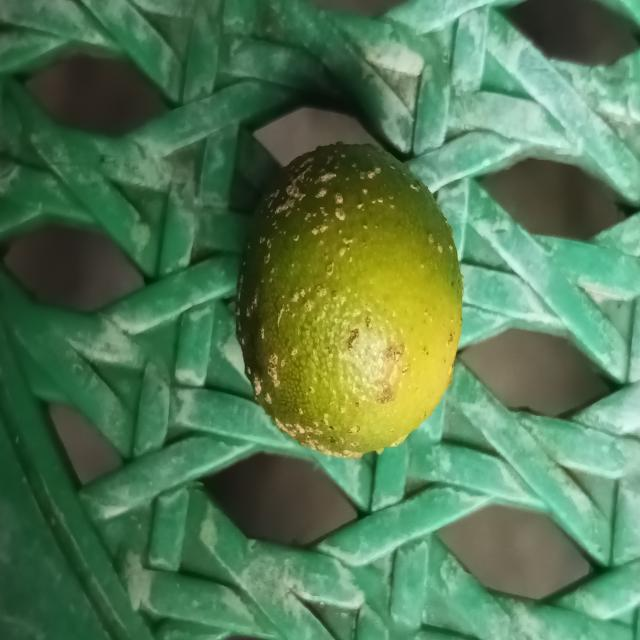scab: (238, 137, 466, 464)
